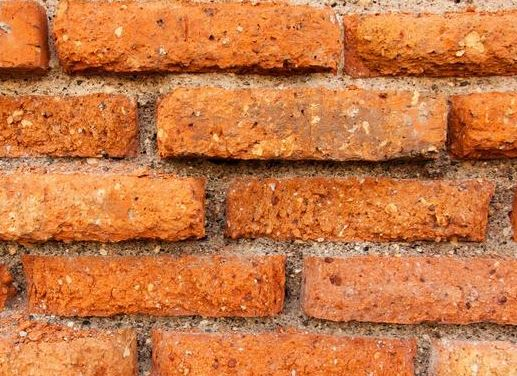brick: (54, 1, 343, 77), (154, 88, 451, 160), (222, 176, 493, 247), (24, 252, 291, 317), (302, 254, 517, 330), (1, 174, 214, 244), (149, 330, 422, 376), (343, 9, 517, 80), (1, 90, 140, 162), (4, 325, 139, 376), (453, 91, 517, 161)
